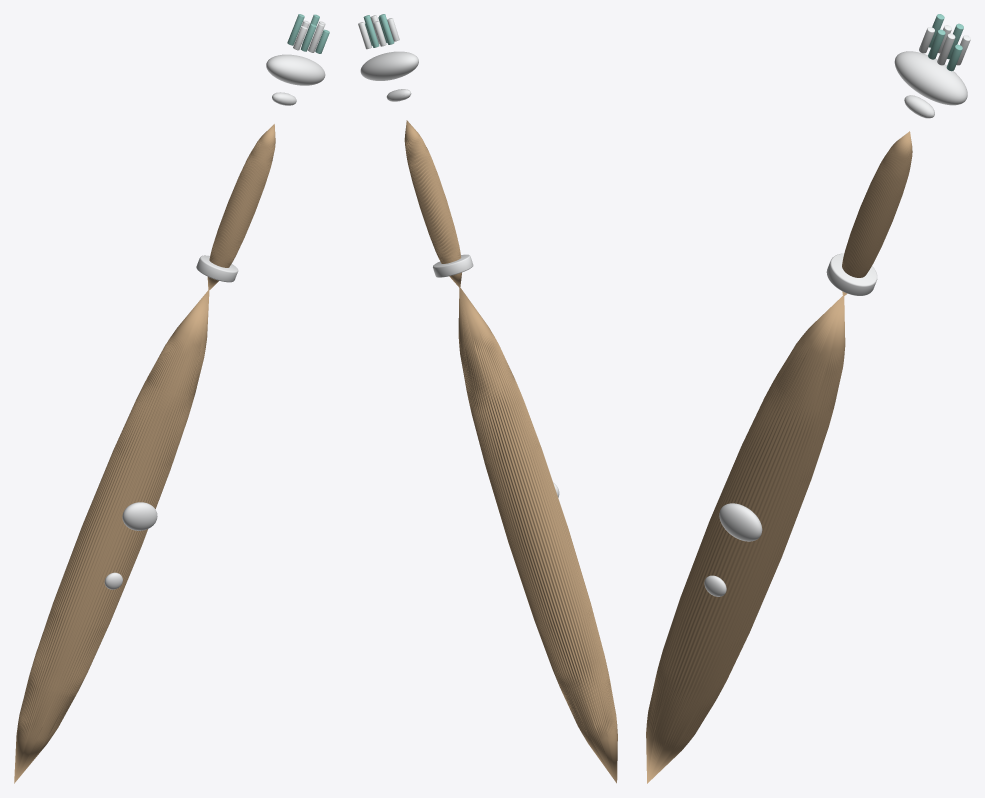
File: toothbrush.glb
3 views of the same model, side by side, from view 1: azimuth 30°, elevation 25°; view 2: azimuth 150°, elevation 25°; view 3: azimuth 330°, elevation 25° (orthographic). The views are drawn at different scales.
Visible parts, largest first — view 1: Body, Neck, HeadTip, Button, AccentRing; view 2: Body, Neck, HeadTip, AccentRing; view 3: Body, Neck, HeadTip, Button, AccentRing.
Part boxes in pixels (box(x1,y1,x2,y2)): Body: box(14, 290, 209, 783); Neck: box(207, 124, 275, 290); HeadTip: box(266, 54, 325, 85); Button: box(122, 502, 157, 530); AccentRing: box(196, 255, 238, 282); Body: box(458, 287, 617, 783); Neck: box(404, 120, 461, 287); HeadTip: box(360, 51, 418, 80); AccentRing: box(433, 254, 473, 277); Body: box(646, 296, 845, 783); Neck: box(842, 131, 912, 296); HeadTip: box(894, 51, 967, 105); Button: box(719, 503, 762, 541); AccentRing: box(826, 253, 877, 295).
Bounding box in the file's own units: 1.66 × 3.95 × 0.3952.
